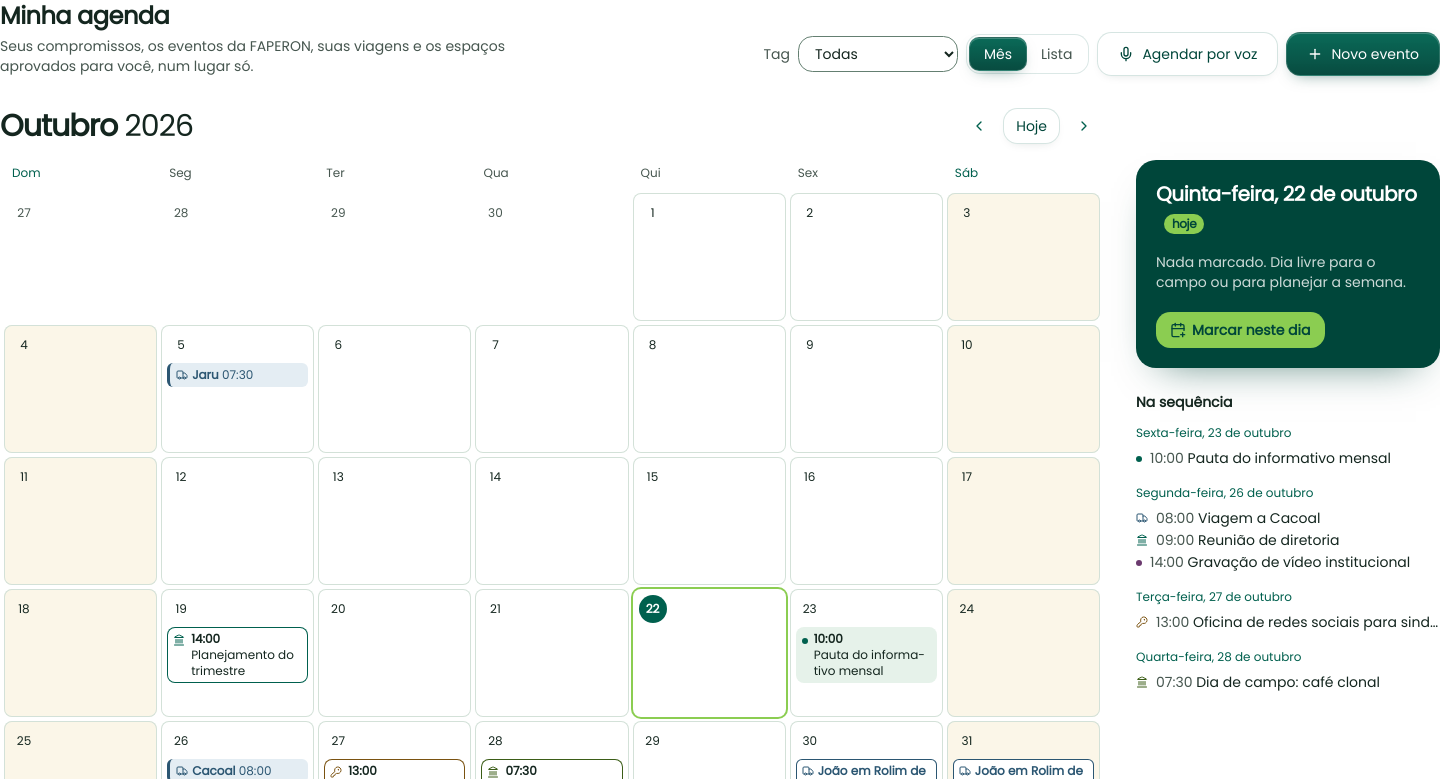
it: Agendar por voz › ouve em pt-BR, mostra a transcrição e abre o evento preenchido para conferir
Click the button "Agendar por voz".
click(1188, 54)  # box [1097, 32, 1278, 76]
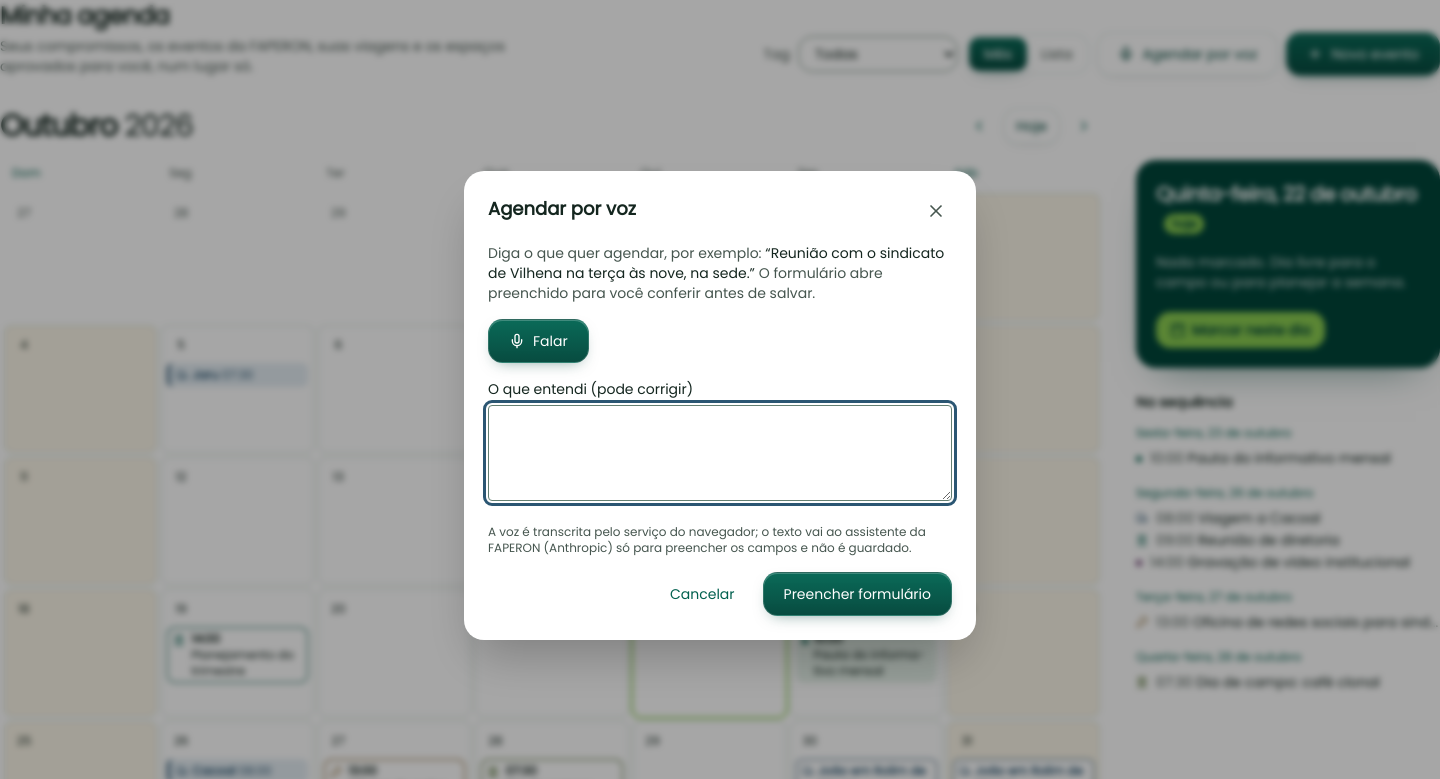
Click the button "Falar".
click(538, 340)  # box [488, 318, 589, 362]
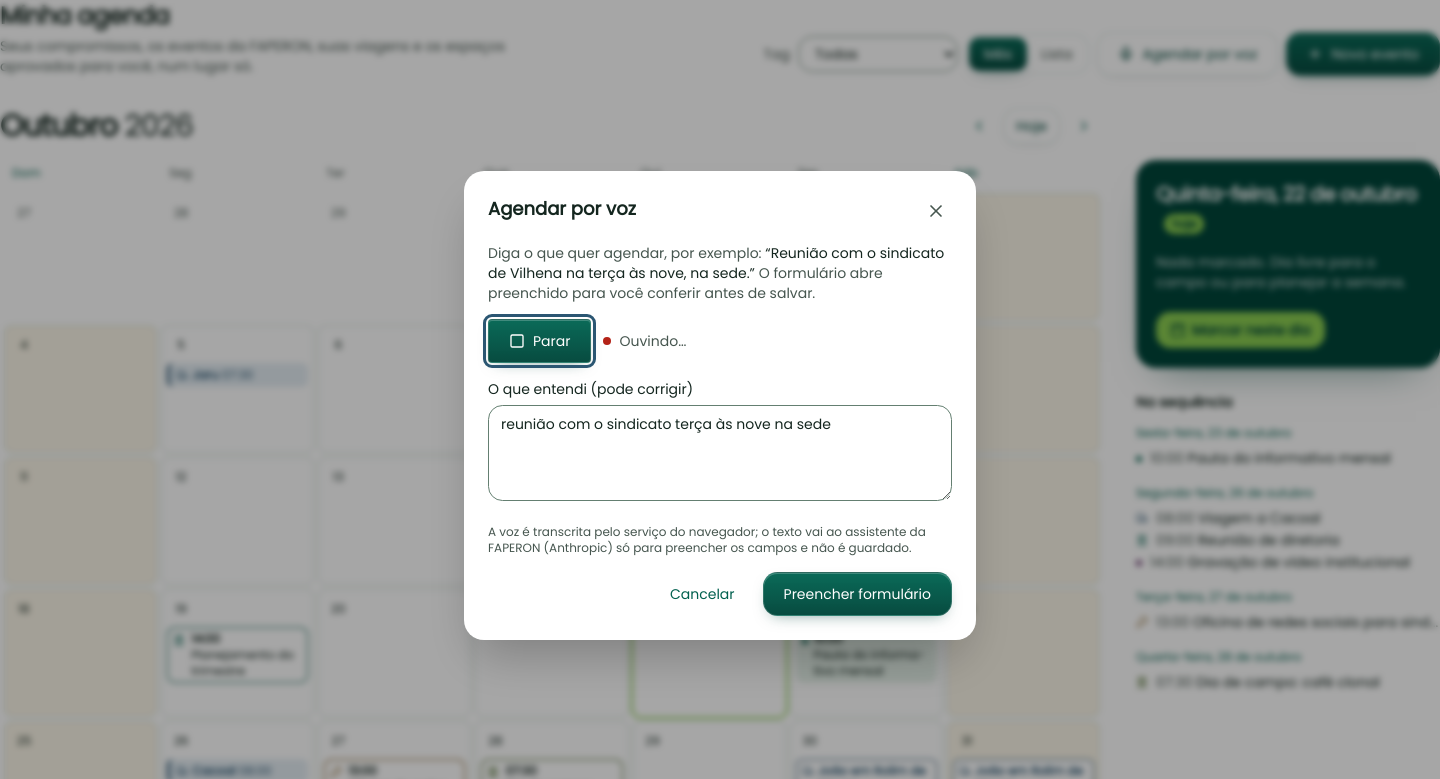
Expected: the text "Ouvindo…" is shown, [604, 330, 686, 351]
Expected: the text box labelled "O que entendi (pode corrigir)" holds "reunião com o sindicato terça às nove na sede", [488, 404, 952, 500]
Click the button "Preencher formulário".
click(857, 594)  # box [762, 572, 952, 616]
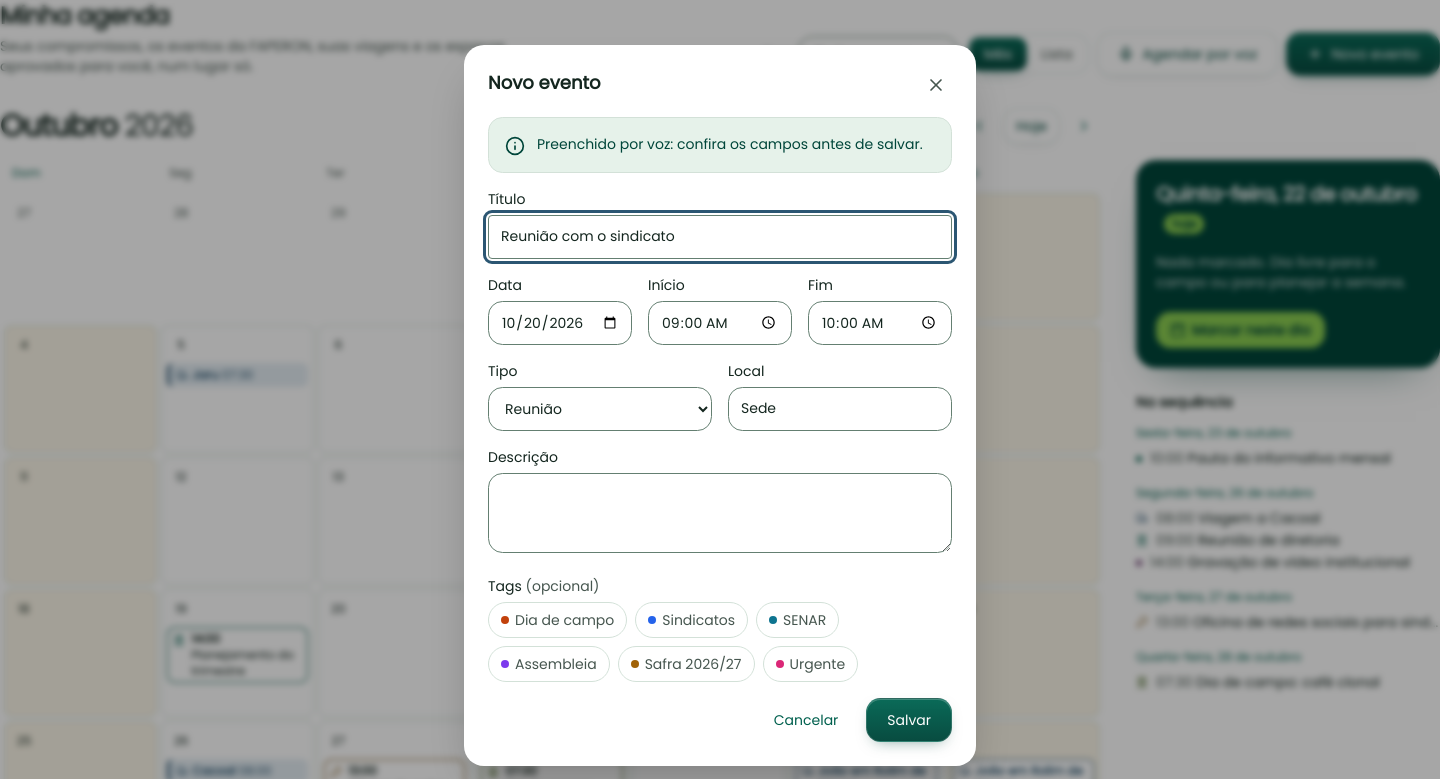
Expected: the text "Preenchido por voz: confira os campos antes de salvar." is shown, [537, 134, 923, 154]
Expected: the field labelled "Título" holds "Reunião com o sindicato", [488, 214, 952, 258]
Expected: the date field labelled "Data" holds "2026-10-20", [488, 300, 632, 344]
